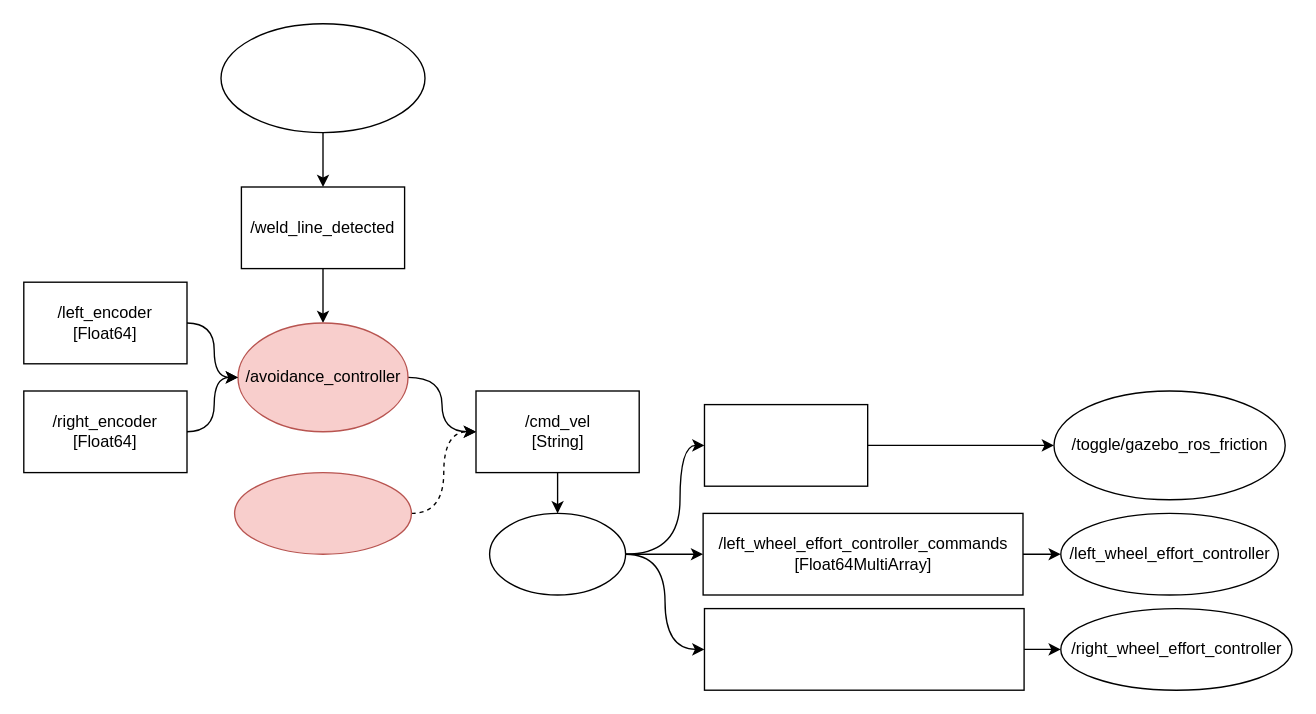
Image size: 1316x714. Some labels were removed from this diagram. The box of each missing label's shape, as (x1, y1, x2, y2) in pixels:
/keyboard_teleop: (233, 471, 411, 554)
/move_robot: (488, 512, 626, 595)
/publish_digital_indicator: (220, 22, 425, 133)
/right_wheel_effort_controller_commands [Float64MultiArray]: (703, 607, 1024, 690)
/toggle/friction_status [String]: (703, 403, 868, 486)
